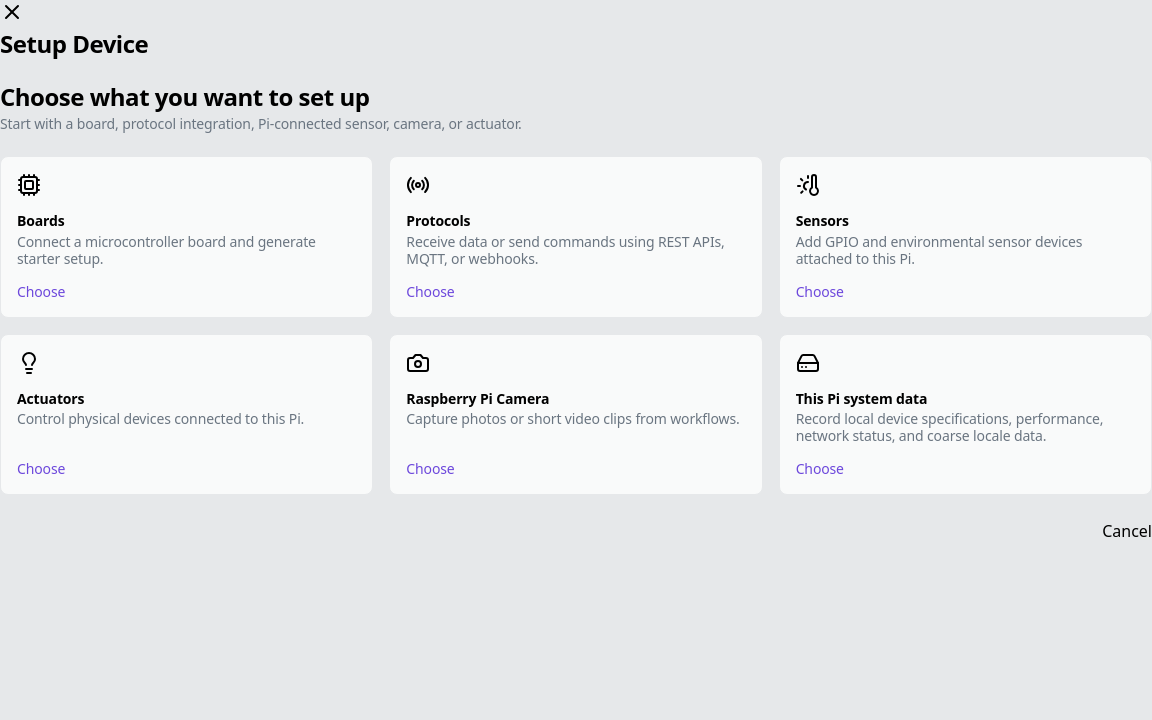
it: AltAddDeviceFlow › opens the system-data provisioning flow from the root picker
The image size is (1152, 720).
Click the button "This Pi system data": click(965, 414) [779, 334, 1151, 495]
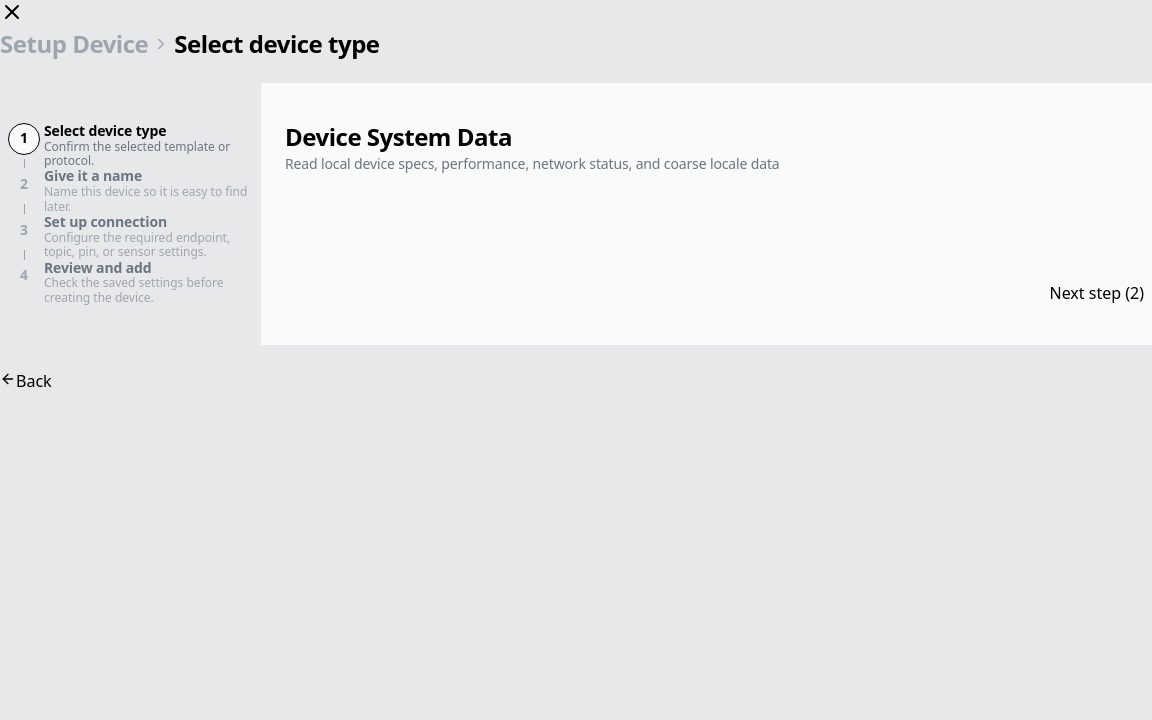
Check: the button "Next step (2)" is enabled, box [1050, 281, 1144, 305]
